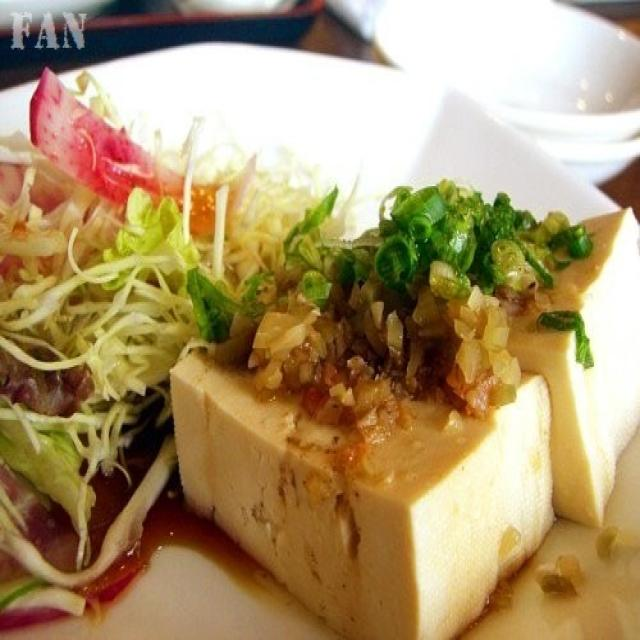豆腐料理: (167, 170, 640, 640)
